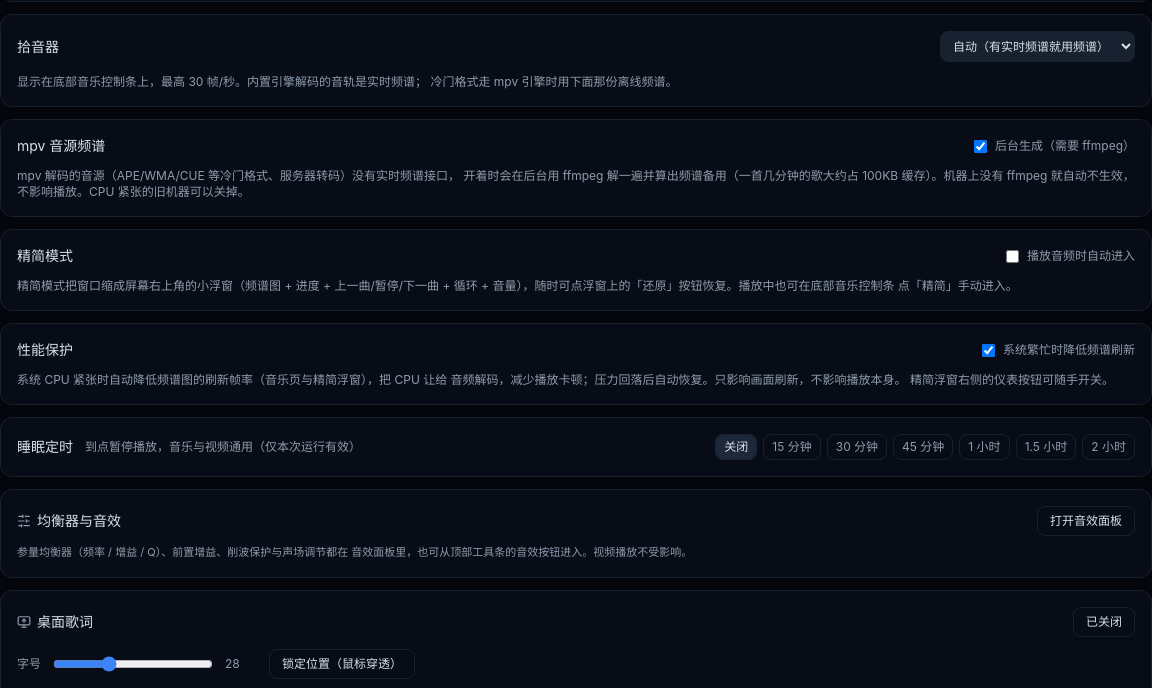
Test: sleep timer UI (P2) › sets a timer from a preset and shows the remaining time
(page scrolled)
What coordinates should you click on to do the following:
click the button "30 分钟"
I would click on:
 (857, 447)
Its box is [827,434,887,460].
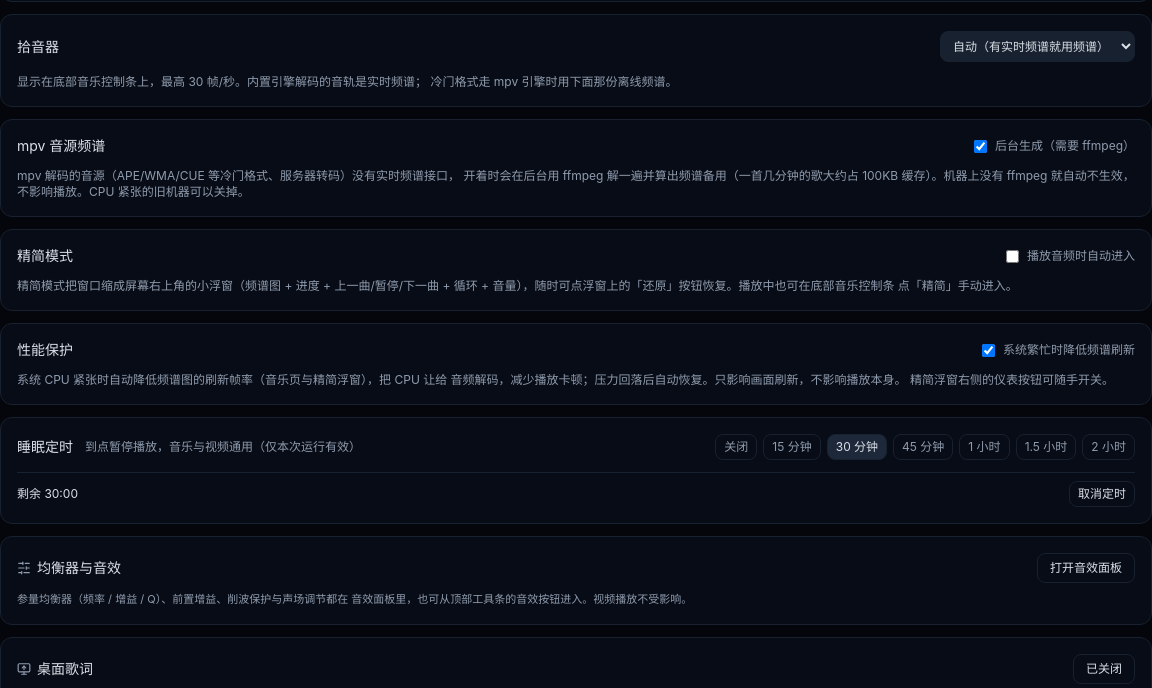
expect the text "剩余 30:00" is shown: met, box [17,486,78,502]
expect the button "取消定时" is shown: met, box [1069,481,1135,507]
